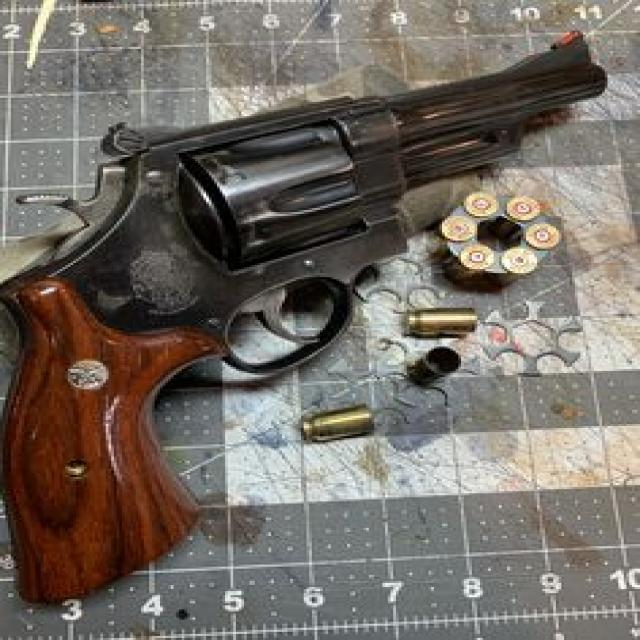revolver: (0, 24, 640, 632)
